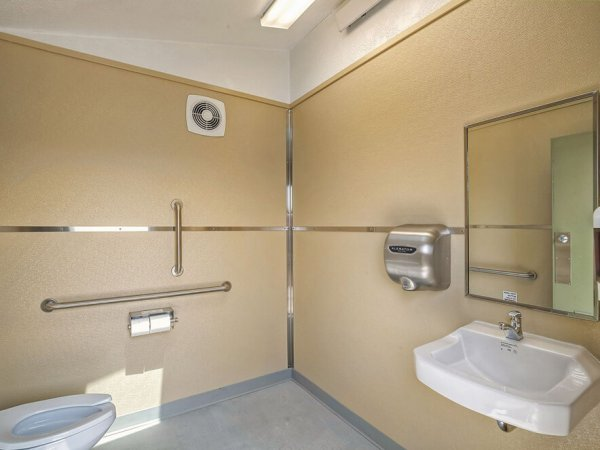dispenser: (126, 309, 179, 340)
faucet: (497, 312, 525, 343)
restroom_assist_bar: (35, 280, 239, 311), (167, 198, 187, 277), (470, 266, 533, 281)
sink: (412, 307, 600, 450)
toilet: (1, 391, 118, 450)
